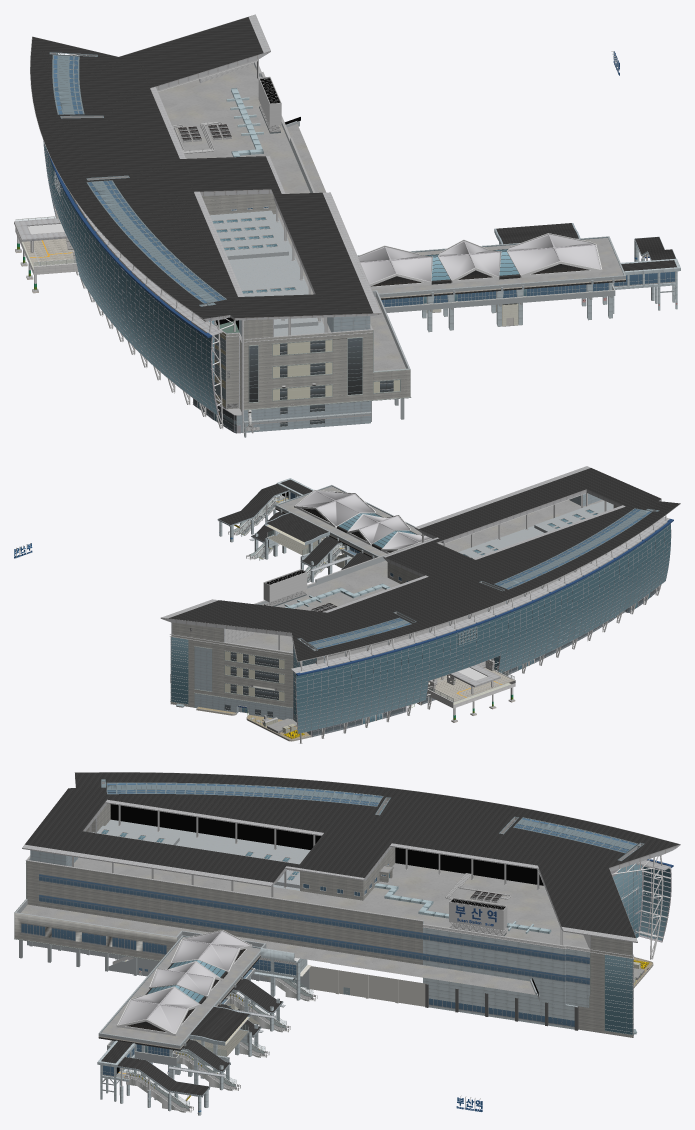
File: OfficialBusanStation_MainShell.fbx
The picture shows the model from 3 angles, top to bottom: view 1: azimuth 30°, elevation 25°; view 2: azimuth 150°, elevation 25°; view 3: azimuth 270°, elevation 25°; orthographic projection. The views are drawn at different scales.
Visible parts, largest first — view 1: OfficialStation_-부산역_0, OfficialStation_-부산역_5, OfficialStation_-부산역_6, OfficialStation_-부산역_1, OfficialStation_-부산역_2, OfficialStation_-부산역_4; view 2: OfficialStation_-부산역_0, OfficialStation_-부산역_1, OfficialStation_-부산역_5, OfficialStation_-부산역_2, OfficialStation_-부산역_6, OfficialStation_-부산역_4, OfficialStation_-부산역_3, OfficialStation_-부산역_7; view 3: OfficialStation_-부산역_0, OfficialStation_-부산역_5, OfficialStation_-부산역_6, OfficialStation_-부산역_1, OfficialStation_-부산역_4, OfficialStation_-부산역_7.
Boxes of the visible parts, x1,y1,x2,y2 form: OfficialStation_-부산역_0: (14,14,381,433); OfficialStation_-부산역_5: (186,61,625,437); OfficialStation_-부산역_6: (357,223,680,332); OfficialStation_-부산역_1: (30,14,370,422); OfficialStation_-부산역_2: (37,122,182,376); OfficialStation_-부산역_4: (34,53,218,417); OfficialStation_-부산역_0: (160,466,680,741); OfficialStation_-부산역_1: (161,493,680,727); OfficialStation_-부산역_5: (170,485,673,719); OfficialStation_-부산역_2: (406,530,645,715); OfficialStation_-부산역_6: (217,478,430,582); OfficialStation_-부산역_4: (291,523,671,743); OfficialStation_-부산역_3: (345,601,622,722); OfficialStation_-부산역_7: (14,511,349,582); OfficialStation_-부산역_0: (22,772,679,988); OfficialStation_-부산역_5: (14,855,636,1075); OfficialStation_-부산역_6: (97,930,311,1112); OfficialStation_-부산역_1: (30,772,680,945); OfficialStation_-부산역_4: (404,789,673,959); OfficialStation_-부산역_7: (114,998,482,1115).
Bounding box in the file's own units: 17716 × 3283 × 17630.
132 materials, 88 textured.
